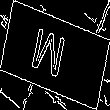M_S: (35, 24, 75, 86)
